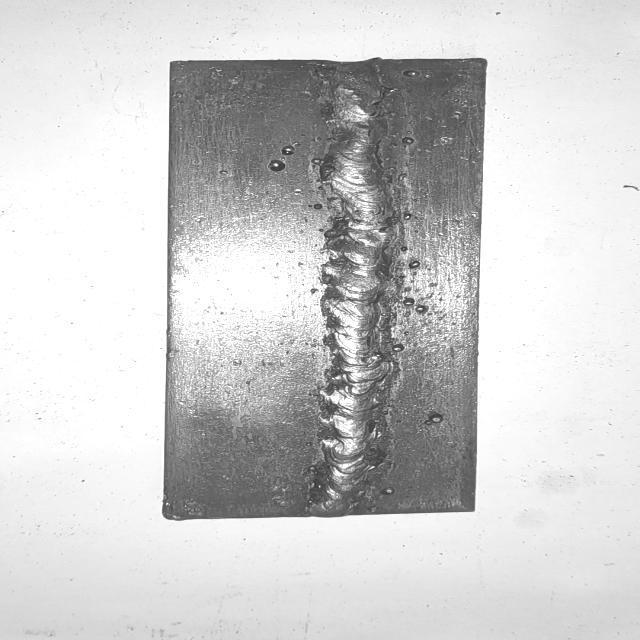Bad Weld: (320, 64, 387, 513)
Defect: (260, 138, 342, 181)
